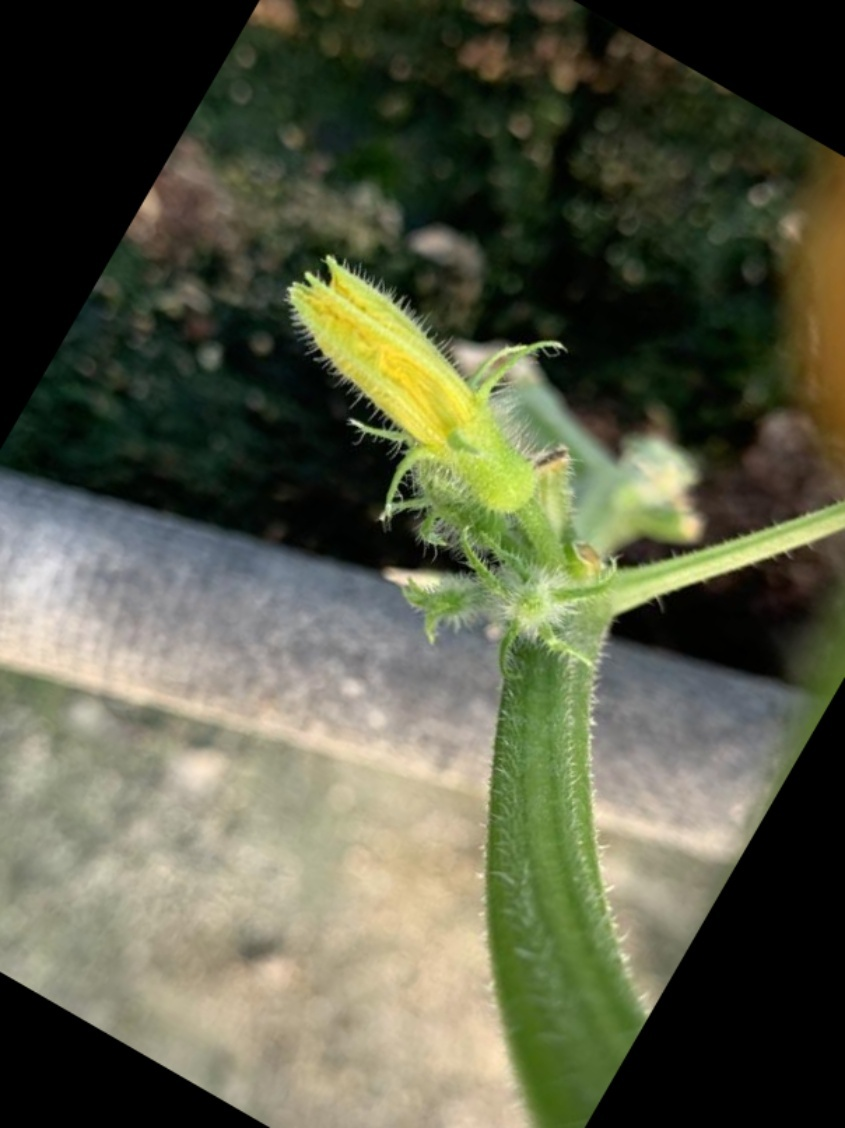bud: (263, 252, 620, 500)
